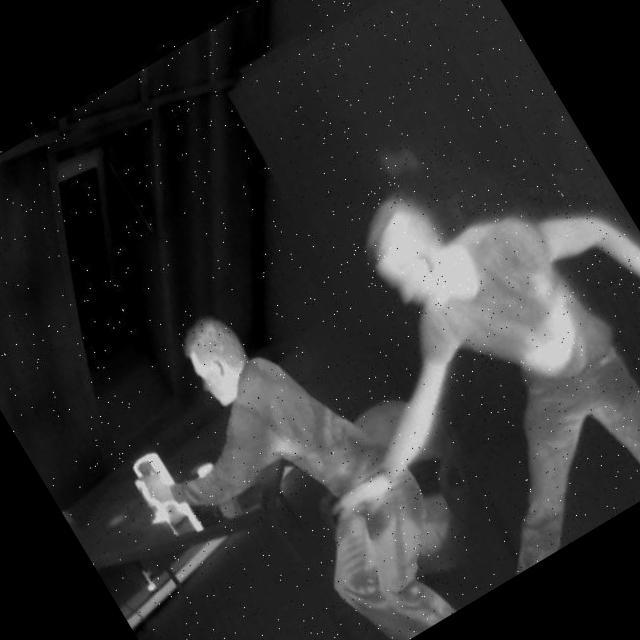person: (315, 104, 640, 567), (136, 257, 489, 640)
